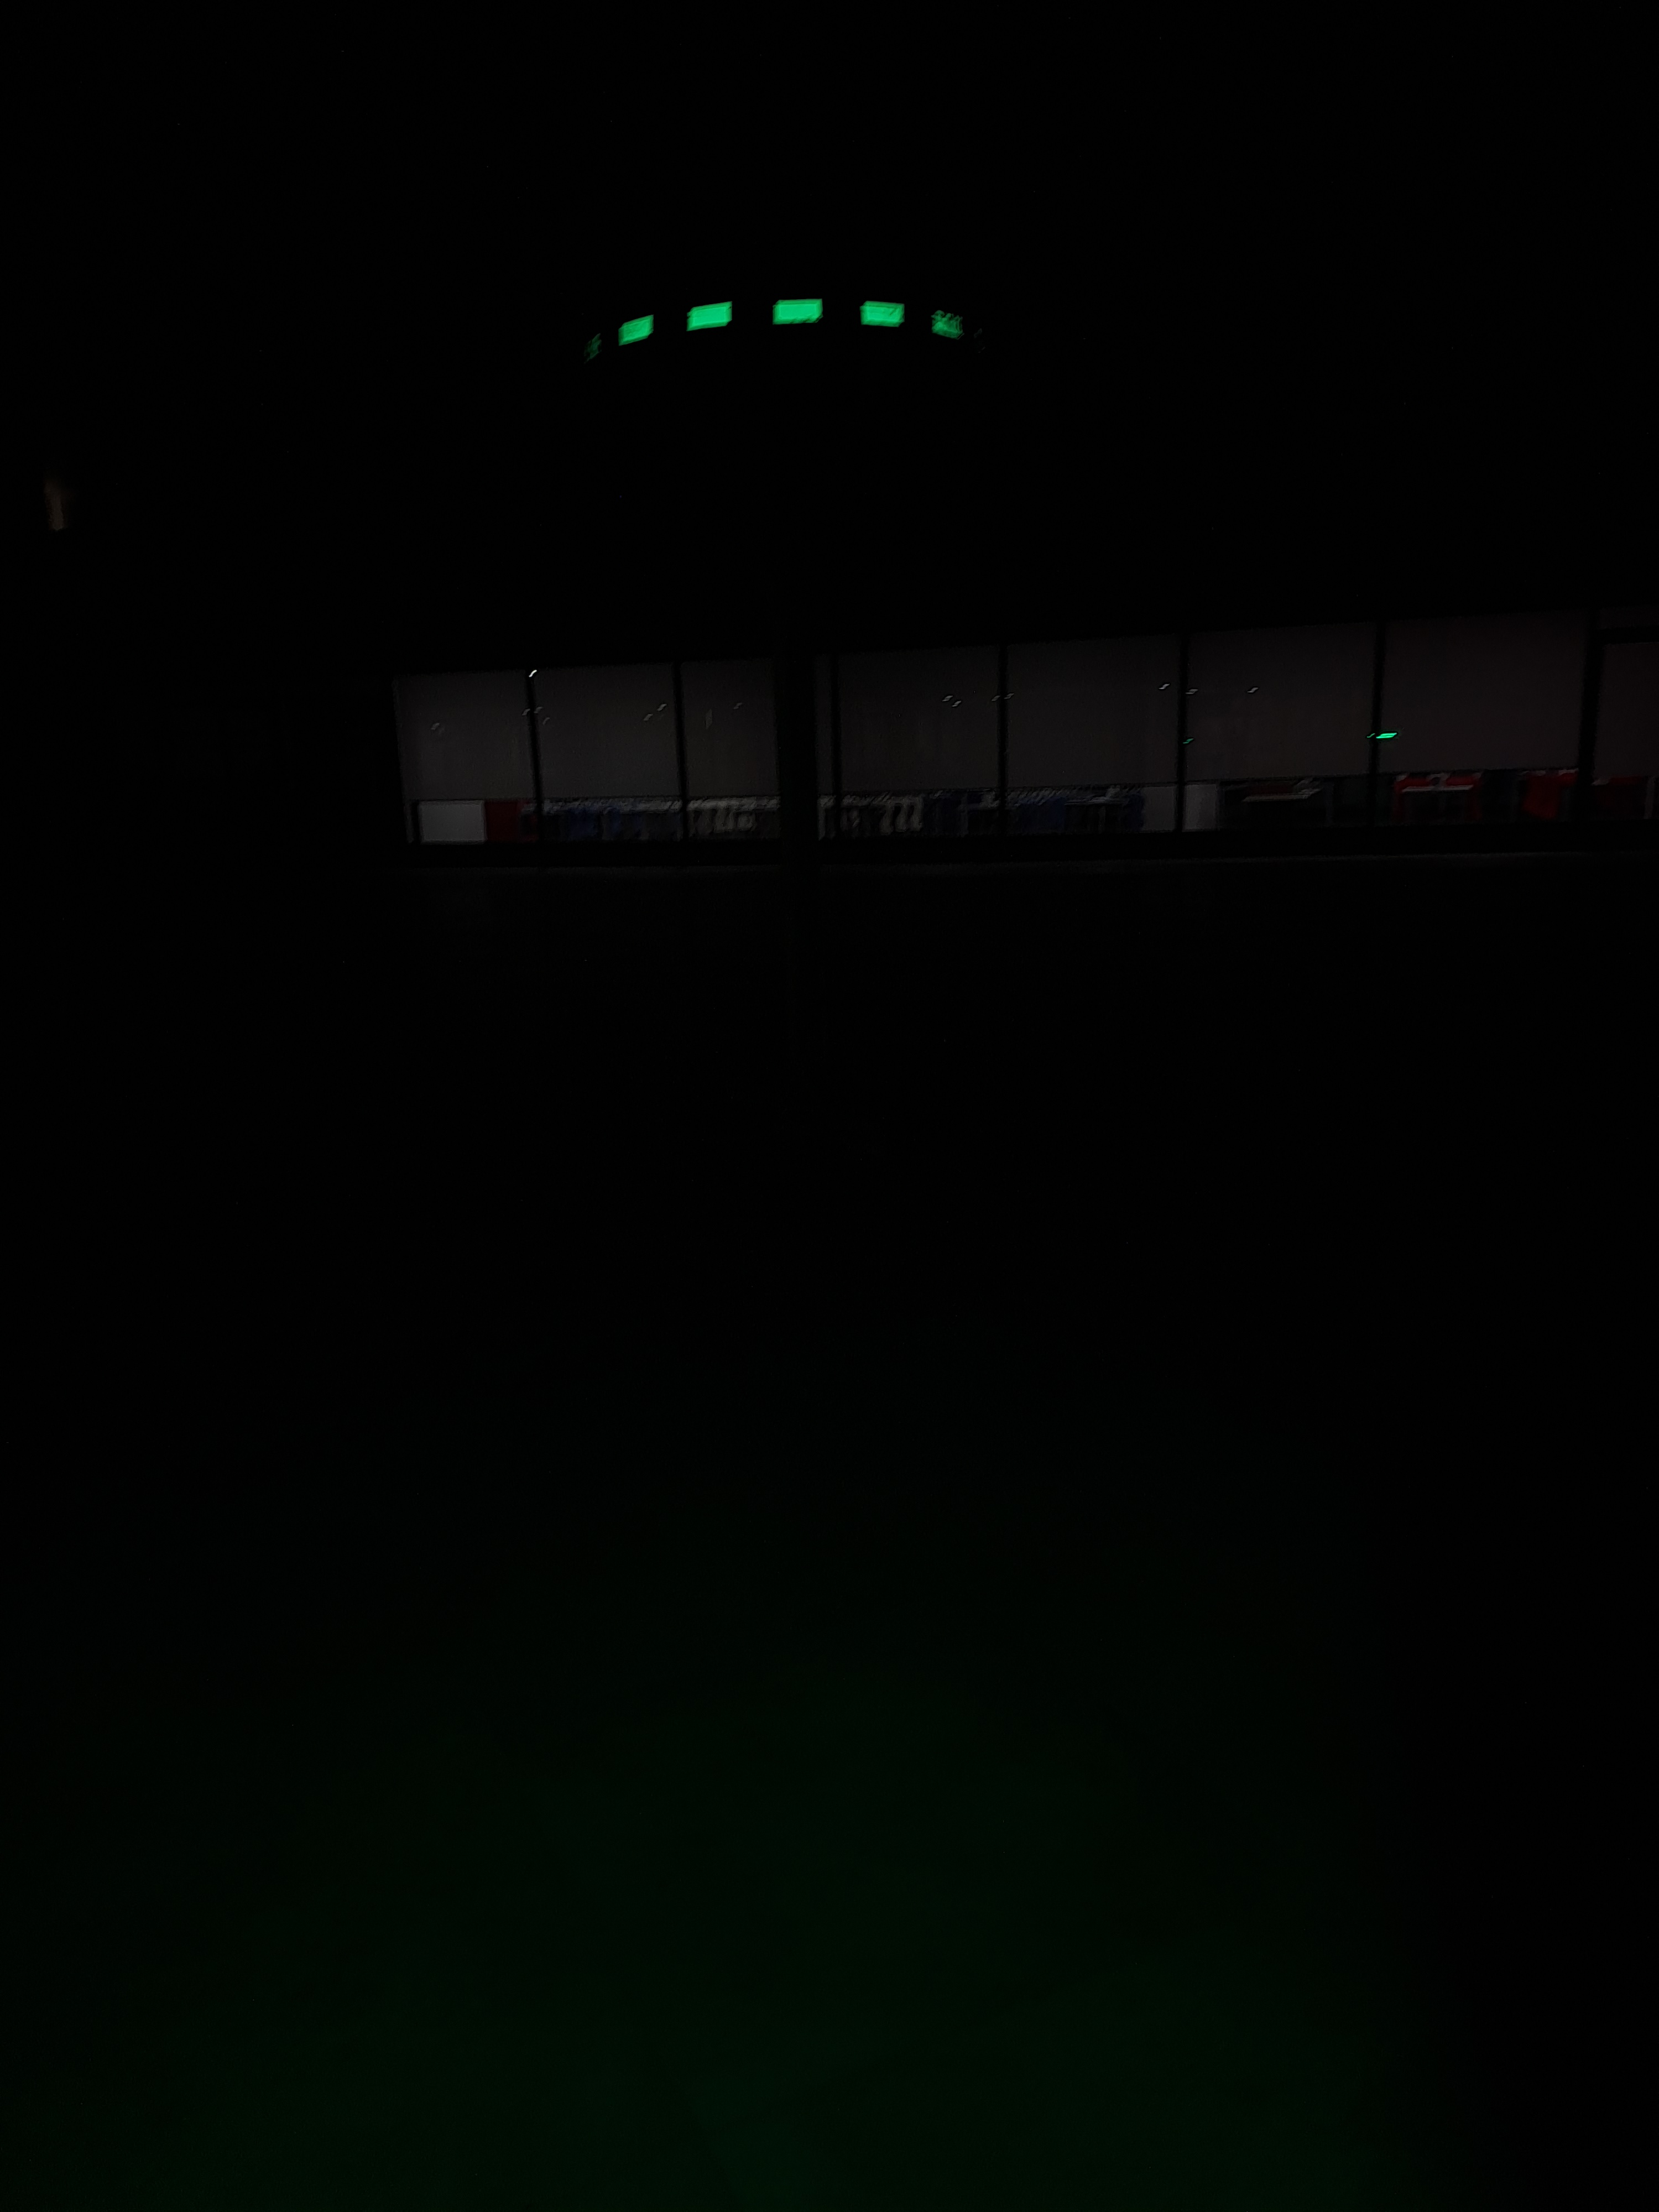hoop: (612, 296, 971, 347)
